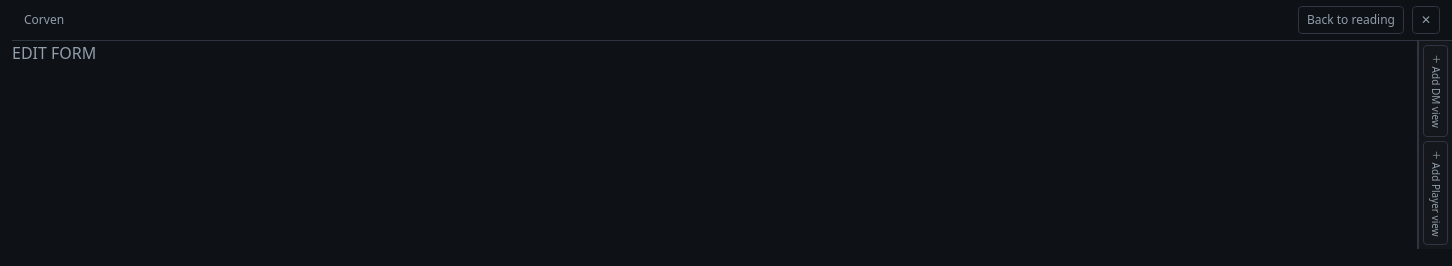
it: entity surface opens in Reading, Edit toggles › startInEdit mounts the edit pane immediately (re-filing a misfiled note)
Expected: the text "EDIT FORM" is shown, x1=12 y1=42 x2=96 y2=64
Note: Still a two-way toggle — re-filing doesn't trap the DM in Edit.
Click the button "Back to reading": point(1351, 20) x1=1298 y1=6 x2=1404 y2=34
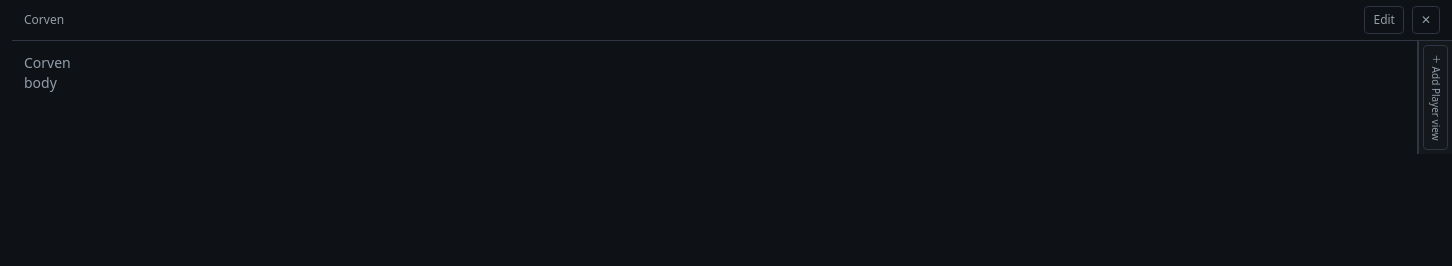
Now the text with test id "edit-form" is gone
